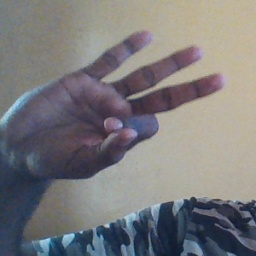K: (16, 28, 228, 181)
